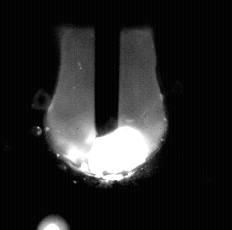arame: (95, 0, 121, 137)
poca: (44, 0, 168, 230)
